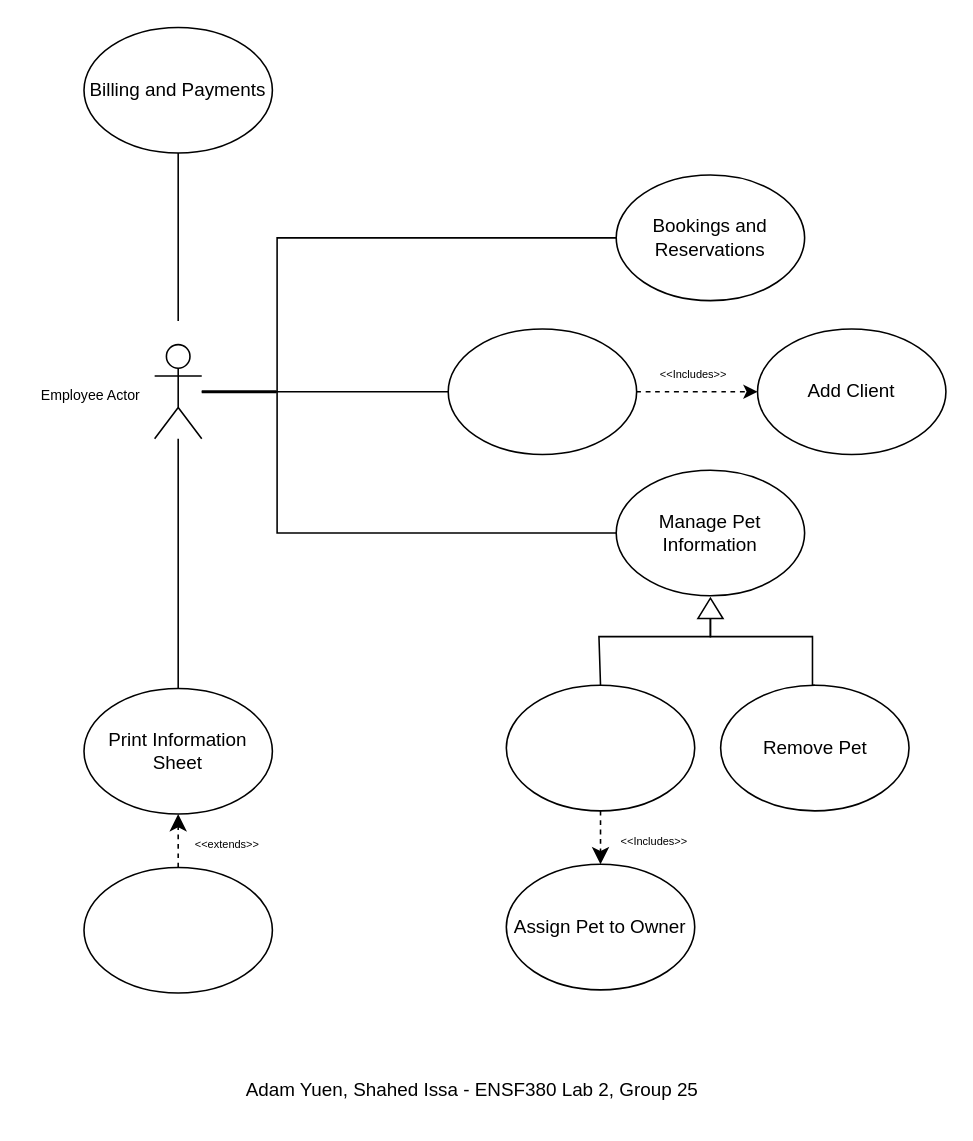
Some shapes in this 973 by 1141 pixel diagram are drawn without their labels. Each missing label, with the centre of its shape:
Add Pet: pixel 600 747
Attempt to Print with Insufficient Information: pixel 177 929
Manage Client Information: pixel 542 391
